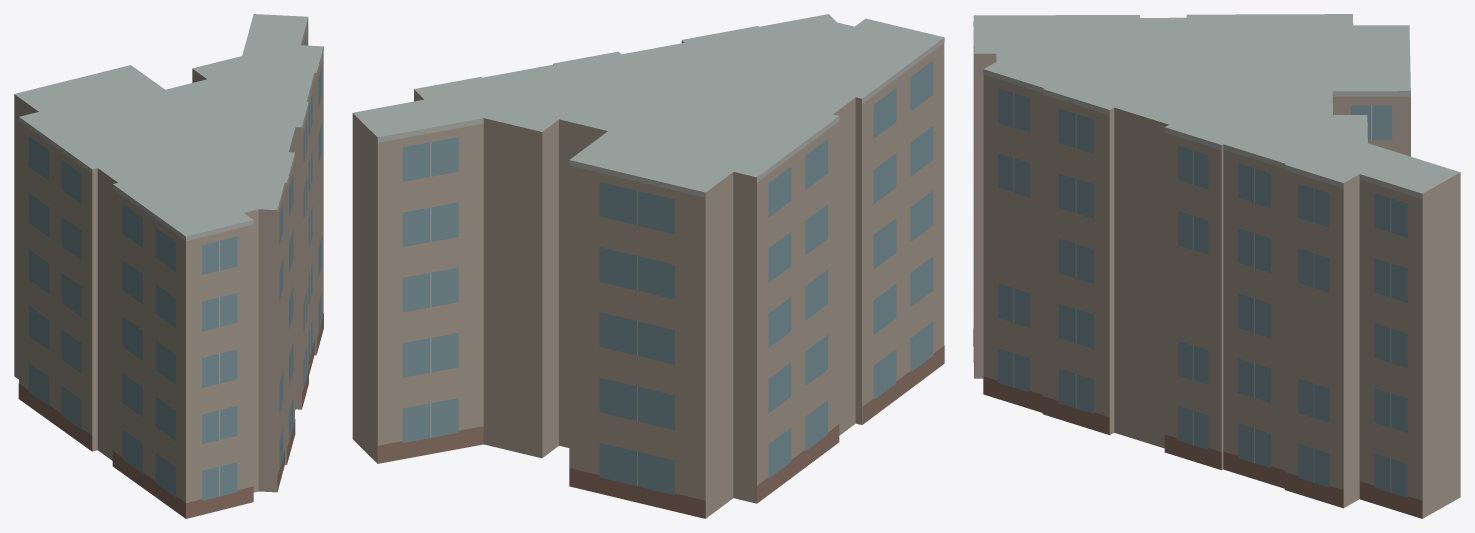
File: survey-upis-32873447.glb
3 renders of one model, left to right at view 1: azimuth 30°, elevation 25°; view 2: azimuth 150°, elevation 25°; view 3: azimuth 270°, elevation 25°, orthographic. The views are drawn at different scales.
Parts seen in each view (by area): view 1: survey-upis-32873447.tmp; view 2: survey-upis-32873447.tmp; view 3: survey-upis-32873447.tmp.
Part boxes in pixels (x1,y1,x2,y2): survey-upis-32873447.tmp: (14, 14, 323, 518); survey-upis-32873447.tmp: (352, 14, 944, 518); survey-upis-32873447.tmp: (973, 14, 1460, 518).
Size of the model in its own units: 17.43 by 14.7 by 19.96.
